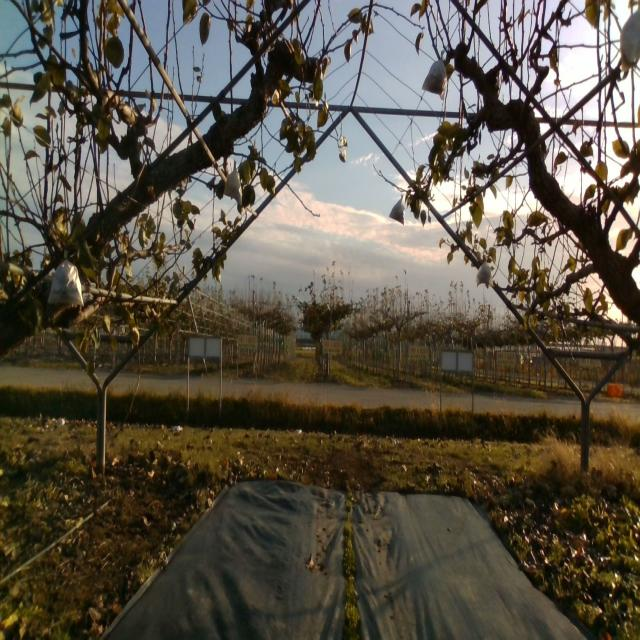pearbags: (46, 249, 84, 307), (421, 57, 447, 100), (223, 162, 244, 203), (474, 255, 494, 285), (389, 195, 404, 224)
